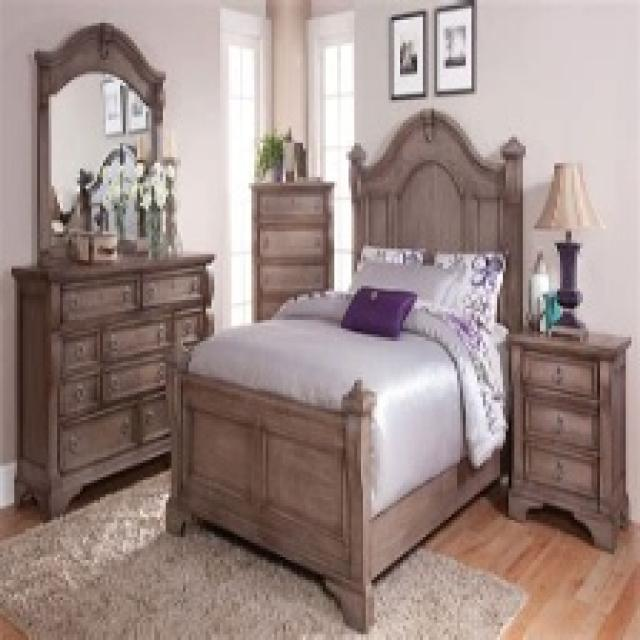Bed: (163, 106, 526, 631)
